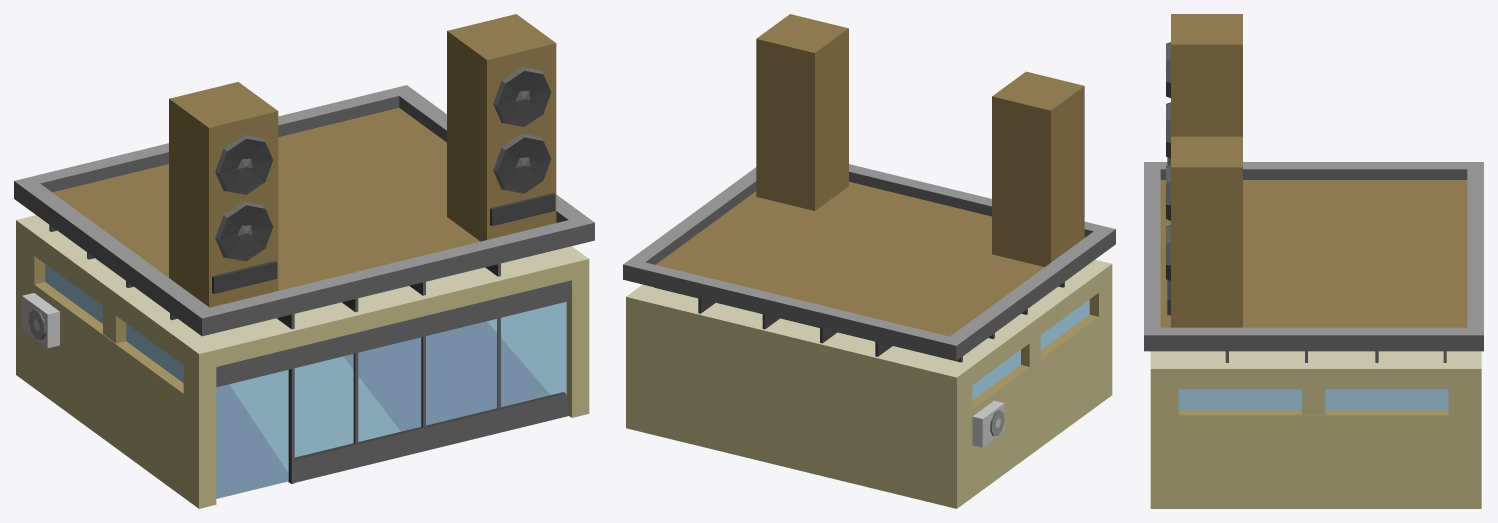
The model's file is services_store_009.fbx.
3 renders of one model, left to right at view 1: azimuth 30°, elevation 25°; view 2: azimuth 150°, elevation 25°; view 3: azimuth 270°, elevation 25°, orthographic. The views are drawn at different scales.
Parts seen in each view (by area): view 1: services_store_009; view 2: services_store_009; view 3: services_store_009.
Boxes of the visible parts, x1,y1,x2,y2 form: services_store_009: [14, 14, 594, 508]; services_store_009: [623, 14, 1115, 508]; services_store_009: [1144, 14, 1483, 508].
Size of the model in its own units: 742 by 642 by 595.
